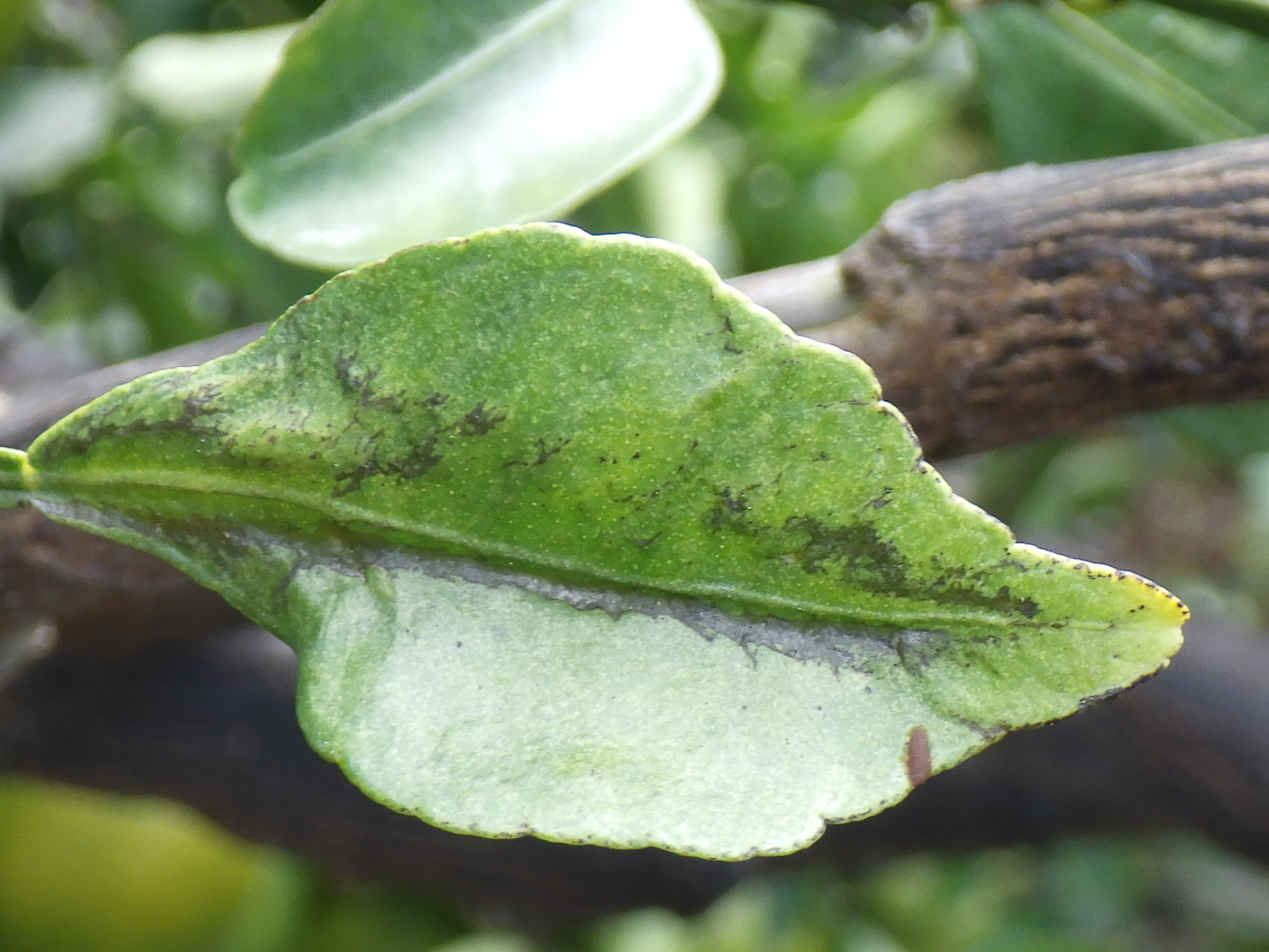Thrips_Damage: (46, 402, 991, 674)
